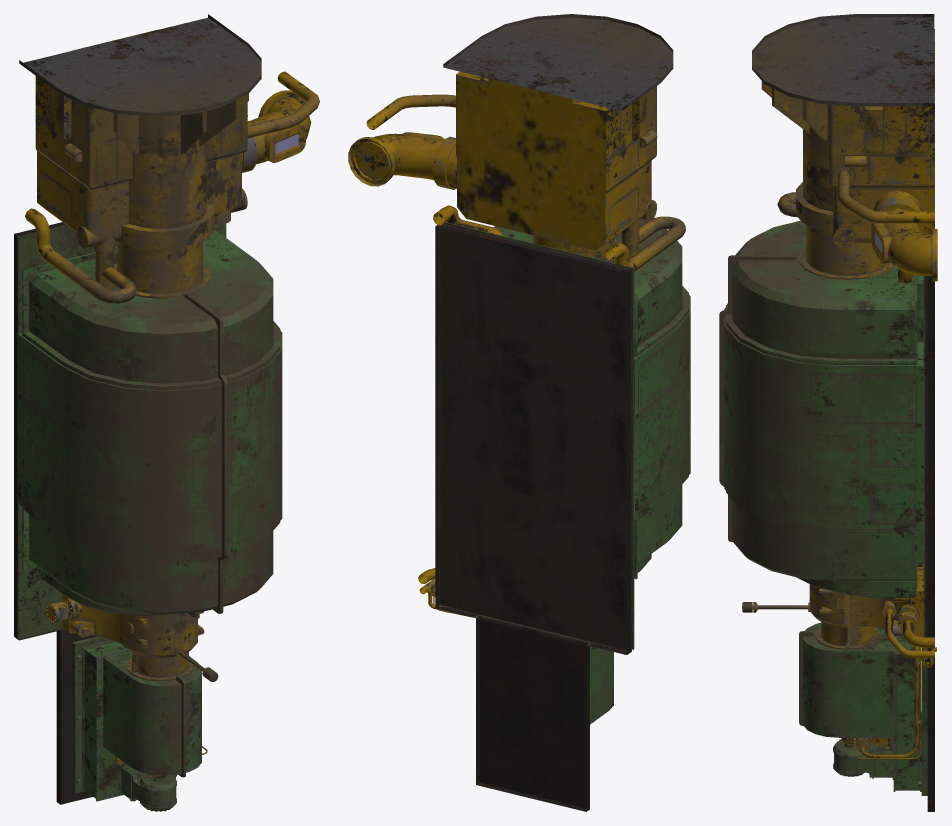
3 renders of one model, left to right at view 1: azimuth 30°, elevation 25°; view 2: azimuth 150°, elevation 25°; view 3: azimuth 270°, elevation 25°, orthographic. The views are drawn at different scales.
Parts seen in each view (by area): view 1: Box002.001; view 2: Box002.001; view 3: Box002.001.
Boxes of the visible parts, box(x1,y1,x2,y2) form: Box002.001: box(14, 14, 319, 811); Box002.001: box(348, 14, 690, 811); Box002.001: box(719, 14, 937, 811).
Size of the model in its own units: 4.6 by 11.2 by 3.06.
Materials: 2 (2 with a texture image).
